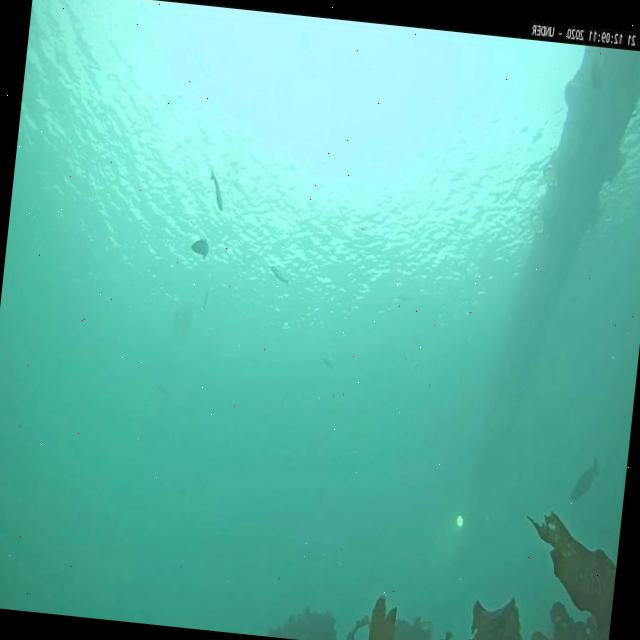fish: (568, 454, 602, 504), (207, 170, 226, 210), (189, 236, 210, 260), (269, 264, 291, 284)
